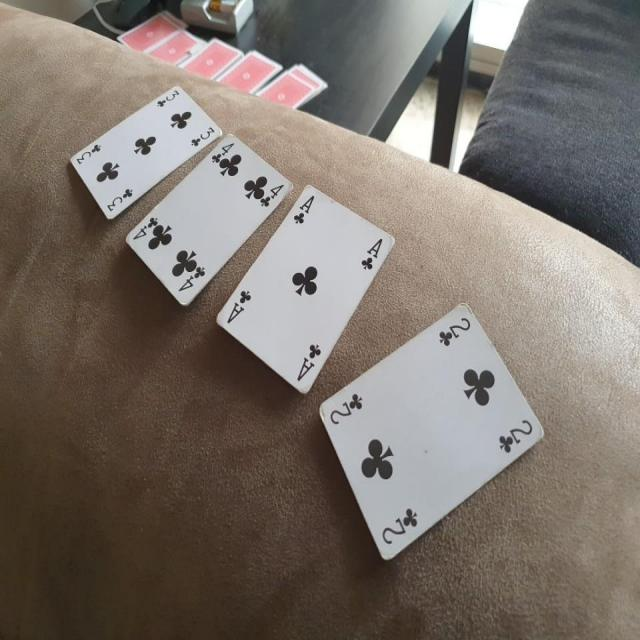2 Trefoils: (318, 300, 547, 562)
3 Trefoils: (68, 85, 222, 218)
4 Trefoils: (123, 132, 296, 306)
A Trefoils: (214, 185, 396, 396)
